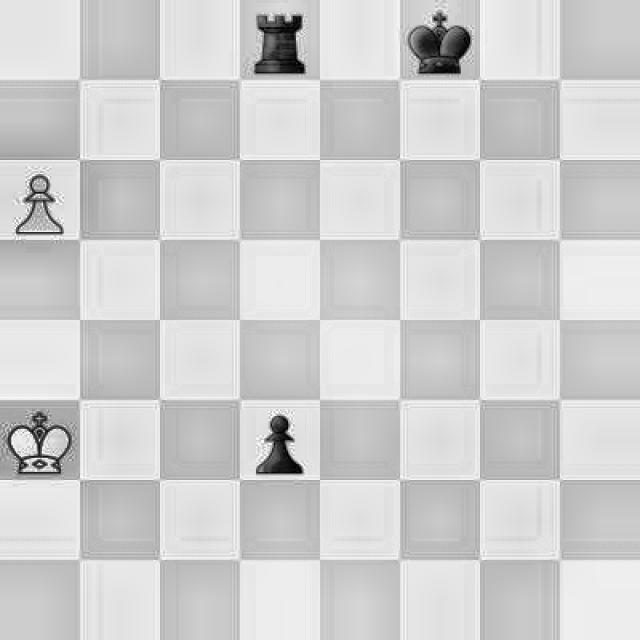black king: (407, 0, 478, 80)
black pawn: (243, 397, 315, 473)
black rook: (243, 2, 320, 81)
white king: (0, 398, 82, 481)
white pawn: (2, 165, 78, 238)
